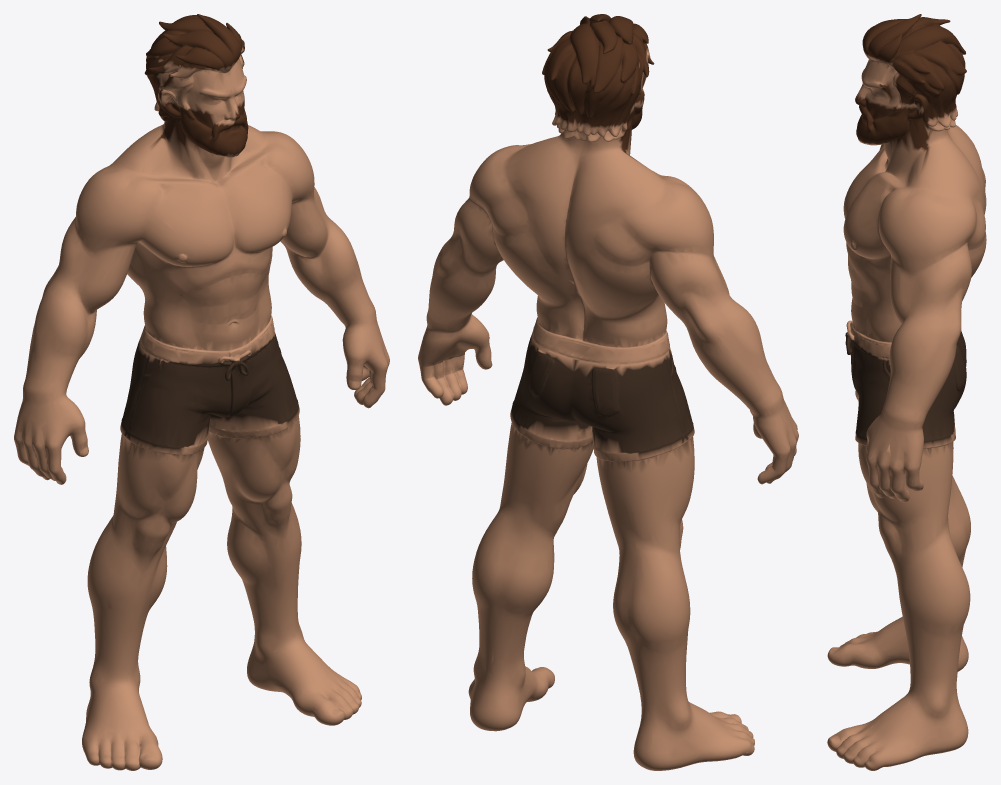
Rendered from koerper.glb.
3 views of the same model, side by side, from view 1: azimuth 30°, elevation 25°; view 2: azimuth 150°, elevation 25°; view 3: azimuth 270°, elevation 25° (orthographic). The views are drawn at different scales.
Visible parts, largest first — view 1: koerper; view 2: koerper; view 3: koerper.
Boxes of the visible parts, left/top/right/bottom form: koerper: left=14, top=14, right=389, bottom=770; koerper: left=418, top=14, right=798, bottom=770; koerper: left=827, top=14, right=986, bottom=770.
Size of the model in its own units: 0.9719 by 1.8 by 0.3764.
